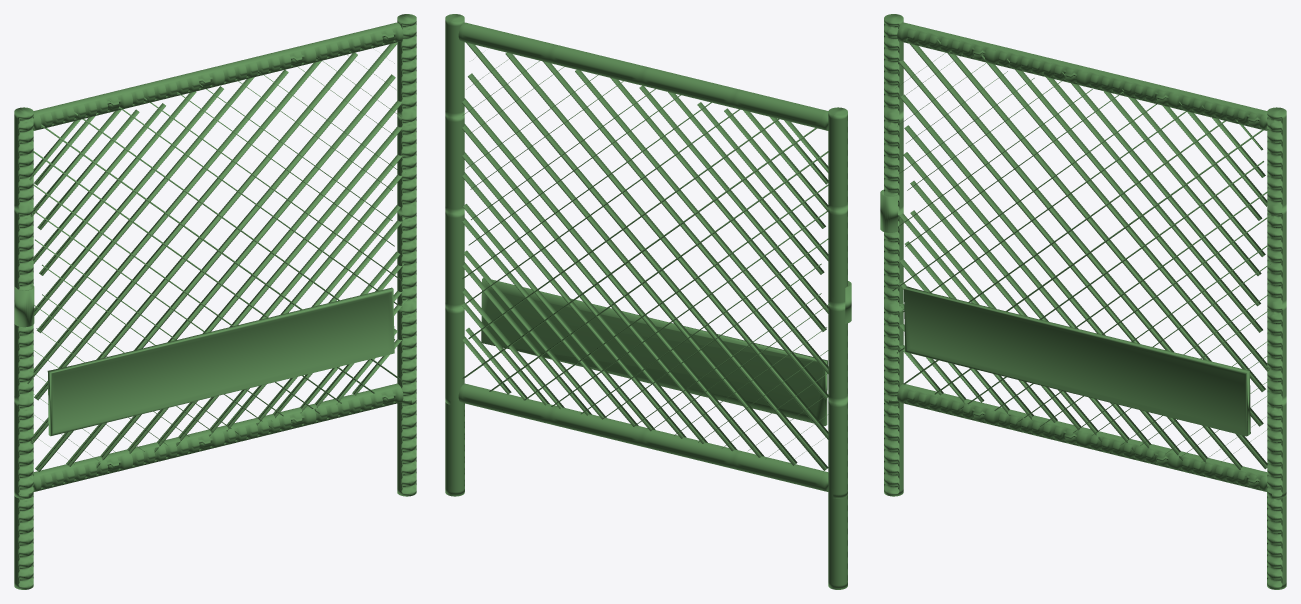
The model's file is sunabakinnsisaku.fbx.
3 renders of one model, left to right at view 1: azimuth 30°, elevation 25°; view 2: azimuth 150°, elevation 25°; view 3: azimuth 330°, elevation 25°, orthographic.
Parts seen in each view (by area): view 1: fence; view 2: fence; view 3: fence.
Boxes of the visible parts, x1,y1,x2,y2 form: fence: [14, 14, 416, 589]; fence: [445, 14, 851, 589]; fence: [880, 14, 1286, 589].
Bounding box in the file's own units: 4759 × 5369 × 282.
